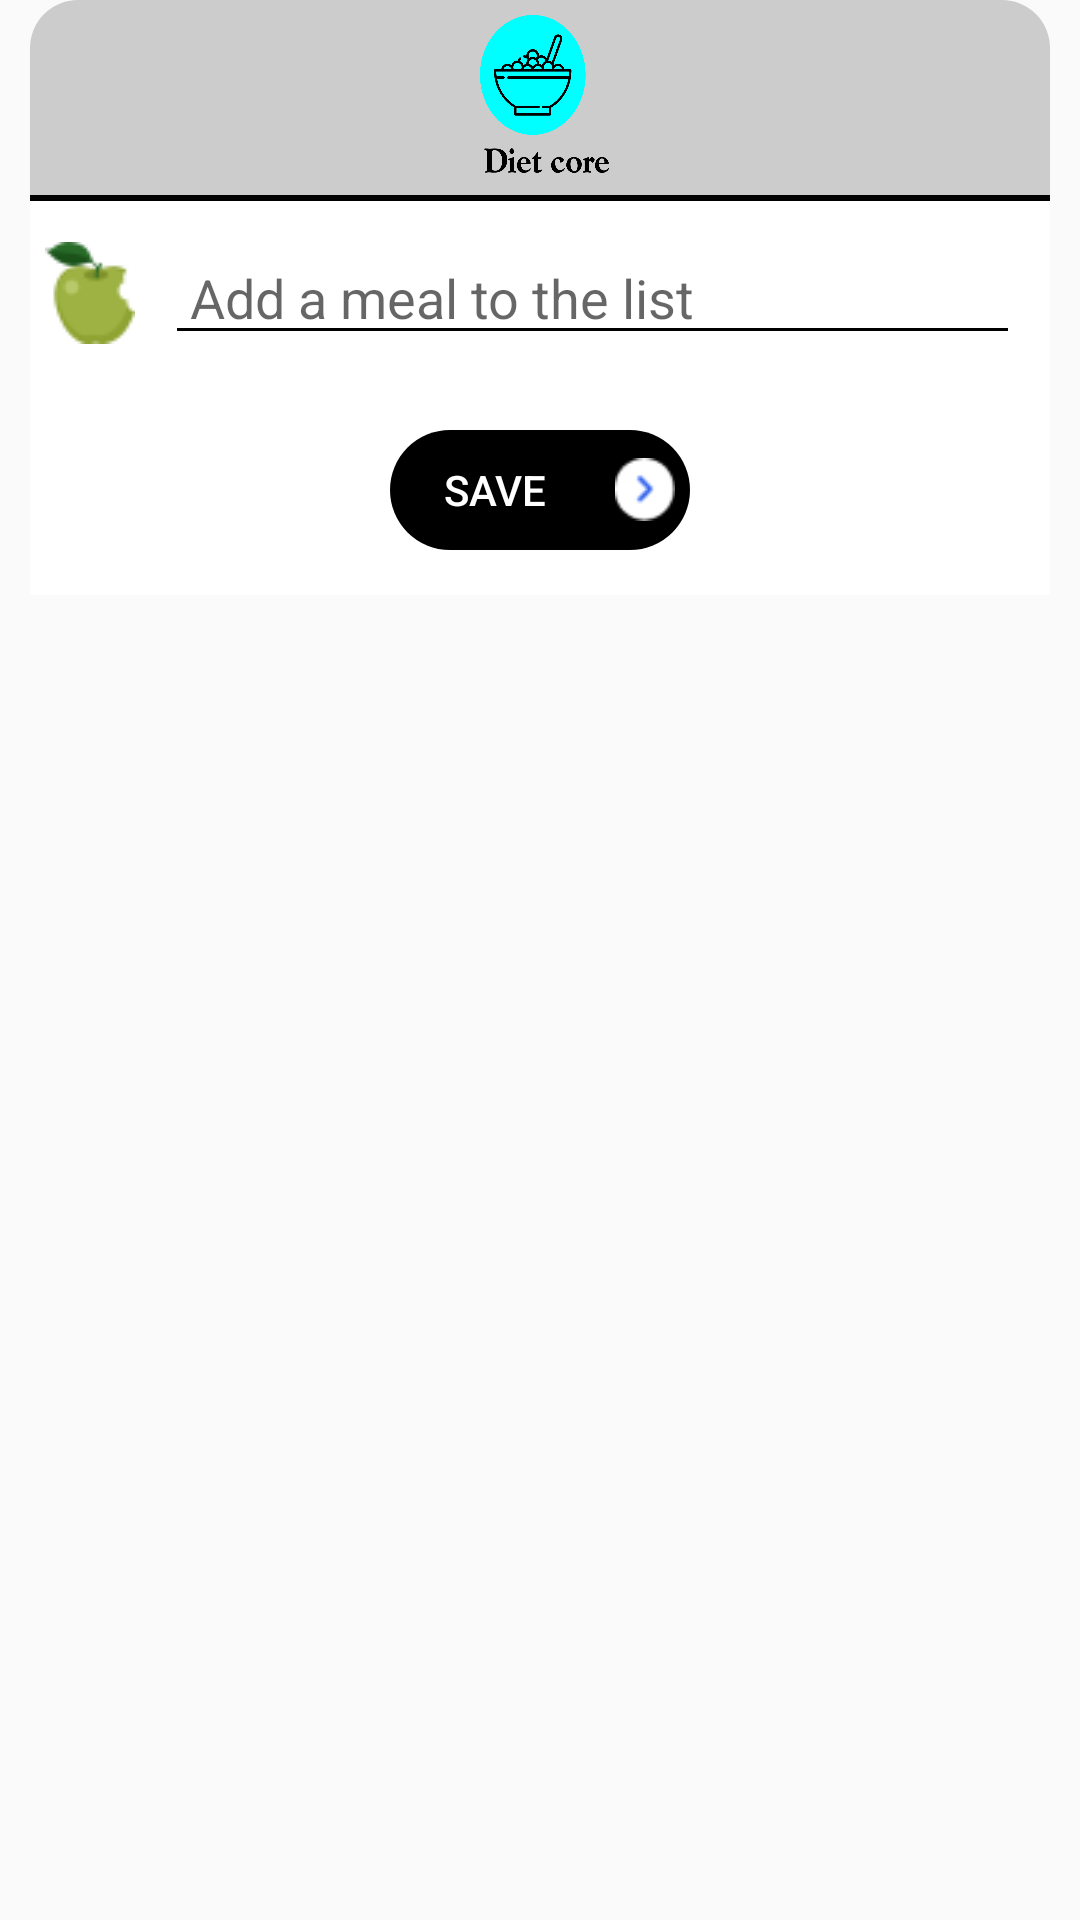

Named icons in this screenshot (1080w x 1920h) and their centers, (x=x, y=y):
applebite: (x=90, y=293)
arrow: (x=645, y=489)
